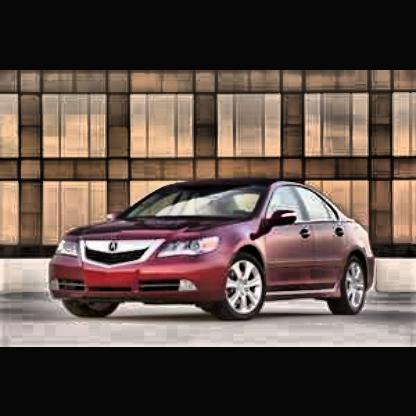Acura TSX Sedan 2012: (50, 180, 377, 326)
